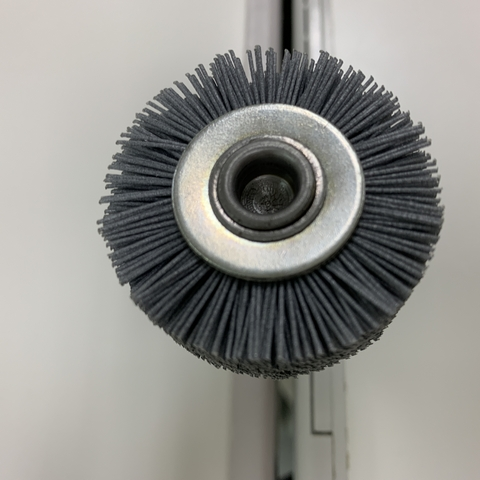Wheel Brush: (80, 38, 447, 387), (87, 41, 453, 374), (101, 50, 427, 341)
